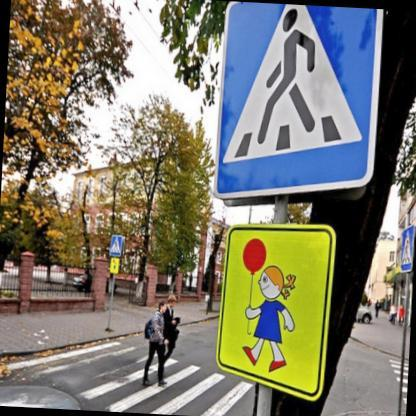road_sign: (215, 3, 381, 198), (400, 224, 414, 272), (109, 236, 124, 256)
